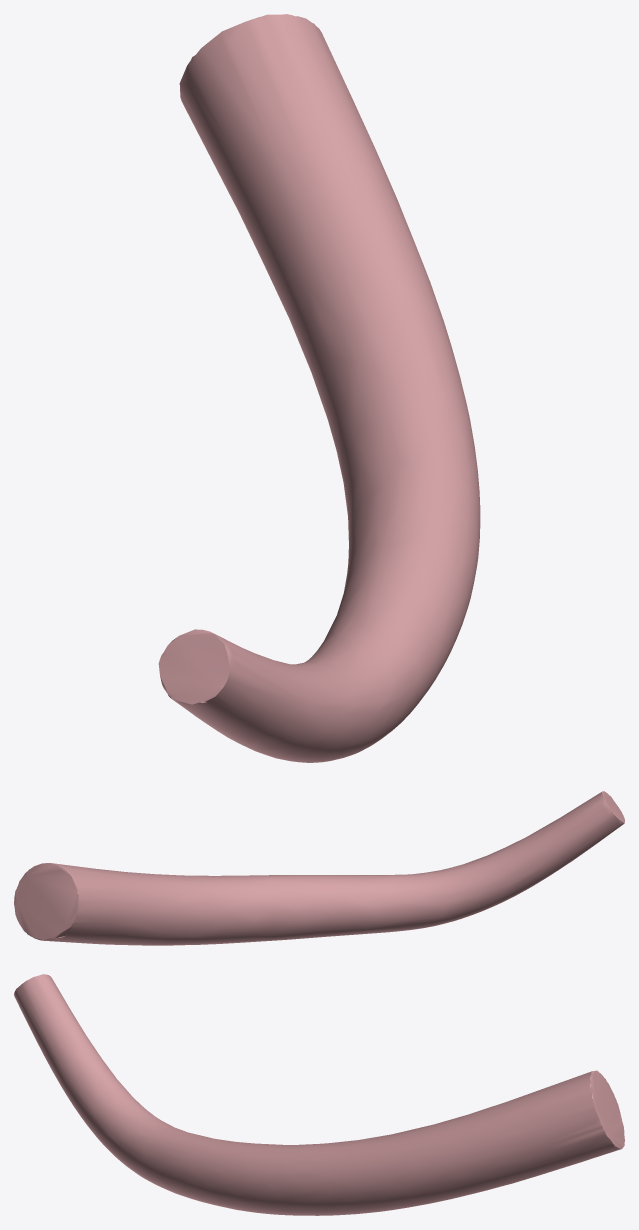
The model's file is fma68214_fj2506.glb.
3 views of the same model, one above another, from view 1: azimuth 30°, elevation 25°; view 2: azimuth 150°, elevation 25°; view 3: azimuth 270°, elevation 25° (orthographic). The views are drawn at different scales.
Parts seen in each view (by area): view 1: FMA68214_FJ2506; view 2: FMA68214_FJ2506; view 3: FMA68214_FJ2506.
Part boxes in pixels (x1,y1,x2,y2): FMA68214_FJ2506: (158,14,480,762); FMA68214_FJ2506: (14,791,624,945); FMA68214_FJ2506: (14,974,624,1215).
Size of the model in its own units: 0.0304 by 0.0147 by 0.0439.
